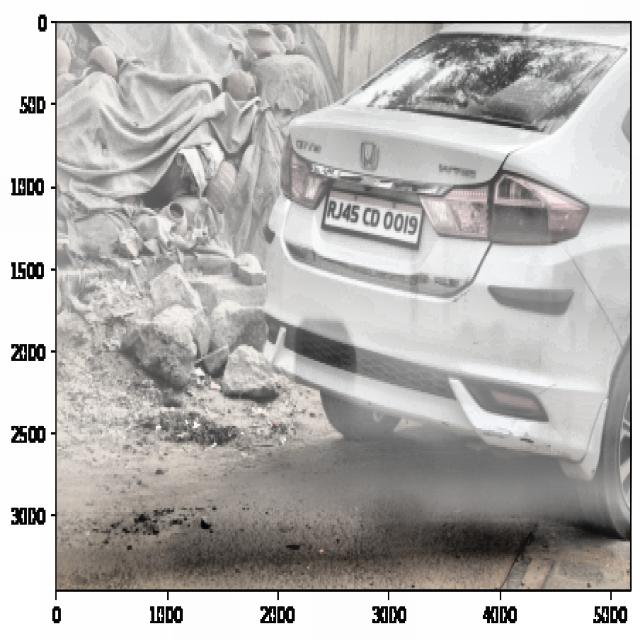license_plate: (324, 194, 422, 244)
